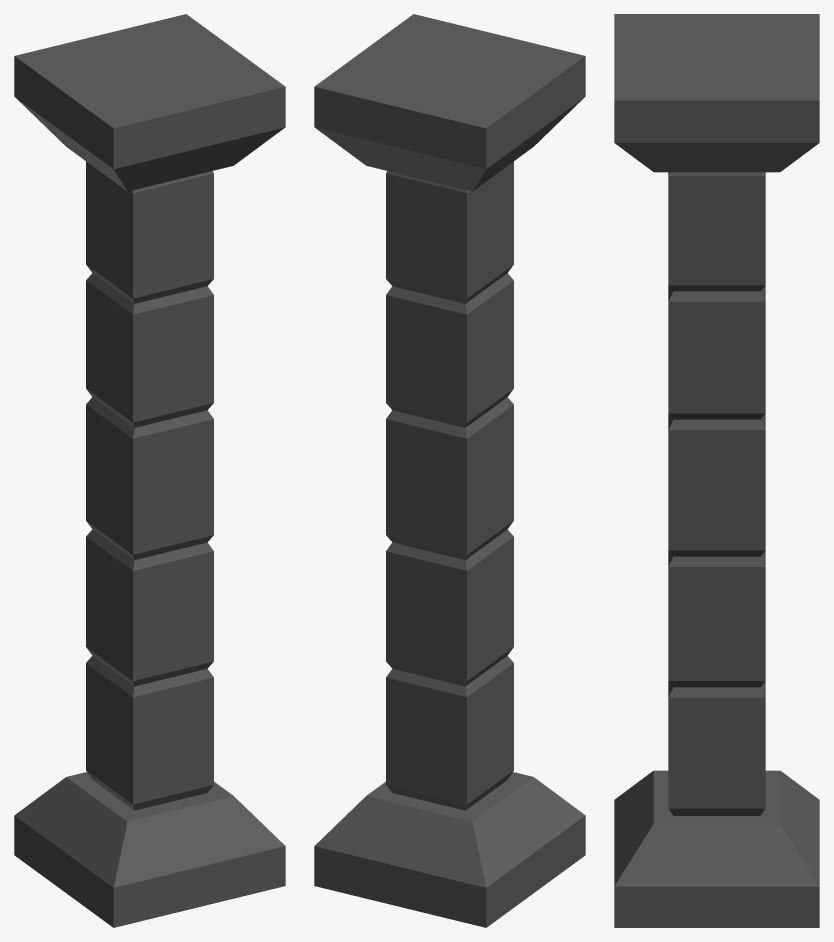
Rendered from Pillar_B0.fbx.
The picture shows the model from 3 angles, left to right: view 1: azimuth 30°, elevation 25°; view 2: azimuth 150°, elevation 25°; view 3: azimuth 270°, elevation 25°; orthographic projection. The views are drawn at different scales.
Visible parts, largest first — view 1: Pillar B0; view 2: Pillar B0; view 3: Pillar B0.
Part boxes in pixels (x1=…): Pillar B0: x1=14, y1=14, x2=285, y2=927; Pillar B0: x1=314, y1=14, x2=585, y2=927; Pillar B0: x1=614, y1=14, x2=819, y2=927.
Size of the model in its own units: 90 by 400 by 90.
